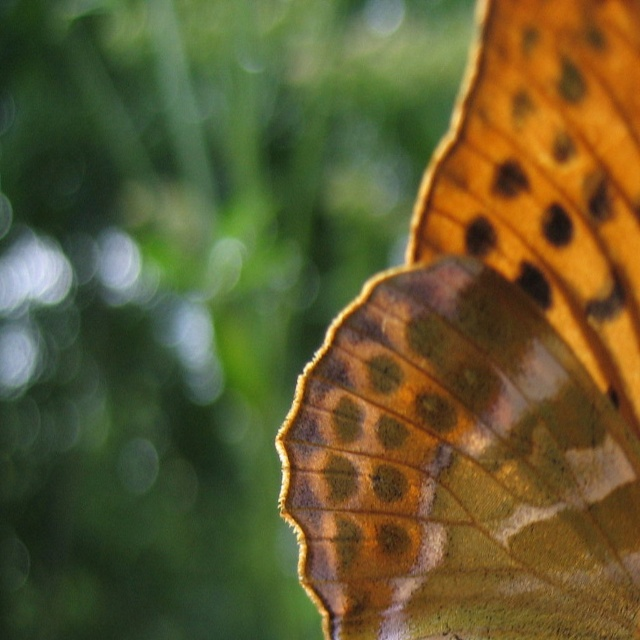Butterfly: (279, 0, 639, 639)
